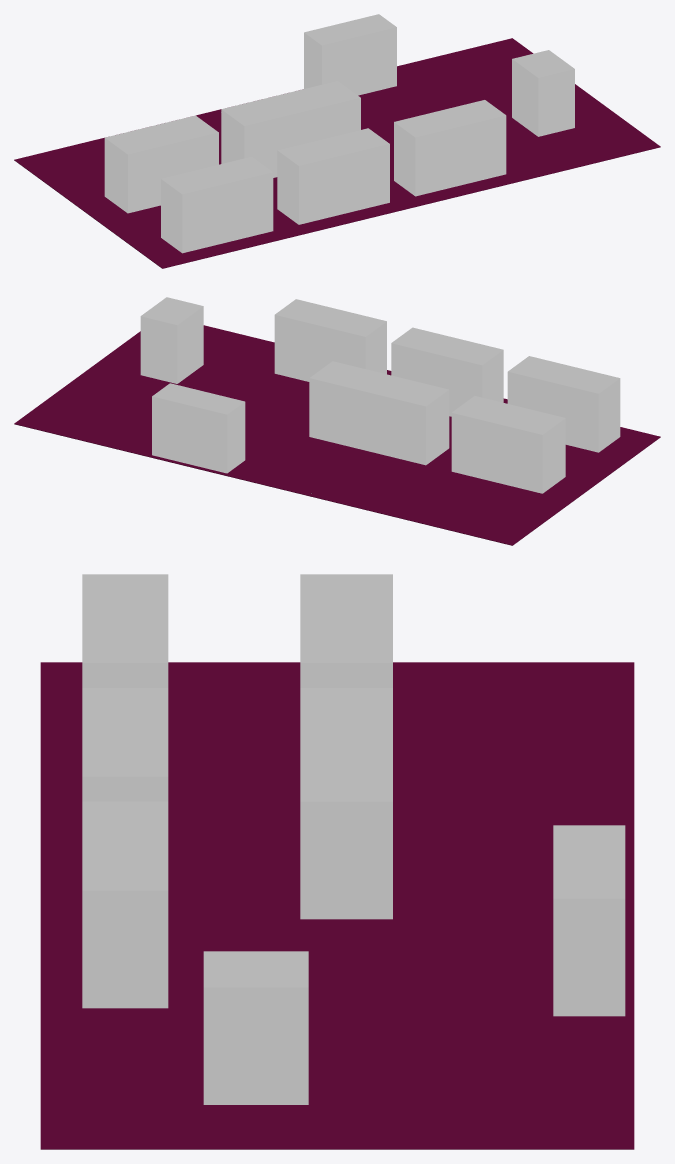
File: njc-l1-sanctuary-v3-11-4.glb
3 renders of one model, top to bottom at view 1: azimuth 30°, elevation 25°; view 2: azimuth 150°, elevation 25°; view 3: azimuth 270°, elevation 25°, orthographic. The views are drawn at different scales.
Visible parts, largest first — view 1: Base, S6, S5, S4, S2, S3, S1, S7; view 2: Base, S2, S3, S4, S6, S1, S5, S7; view 3: Base, S2, S6, S7, S1, S3, S5, S4.
Part boxes in pixels (left/top/right/bottom): Base: left=14, top=38, right=660, bottom=268; S6: left=394, top=100, right=506, bottom=196; S5: left=277, top=128, right=389, bottom=224; S4: left=161, top=156, right=273, bottom=253; S2: left=221, top=81, right=360, bottom=177; S3: left=104, top=115, right=218, bottom=213; S1: left=304, top=14, right=396, bottom=95; S7: left=512, top=50, right=574, bottom=136; Base: left=14, top=325, right=660, bottom=545; S2: left=309, top=361, right=449, bottom=465; S3: left=451, top=396, right=565, bottom=493; S4: left=507, top=356, right=620, bottom=452; S6: left=274, top=299, right=386, bottom=381; S1: left=152, top=383, right=245, bottom=473; S5: left=391, top=327, right=503, bottom=416; S7: left=140, top=297, right=203, bottom=383; Base: left=40, top=662, right=634, bottom=1149; S2: left=300, top=688, right=392, bottom=919; S6: left=82, top=801, right=168, bottom=1008; S7: left=203, top=951, right=308, bottom=1104; S1: left=553, top=825, right=625, bottom=1016; S3: left=300, top=574, right=392, bottom=687; S5: left=82, top=688, right=168, bottom=801; S4: left=82, top=574, right=168, bottom=687.
Size of the model in its own units: 1.76 by 0.2 by 0.9072.
